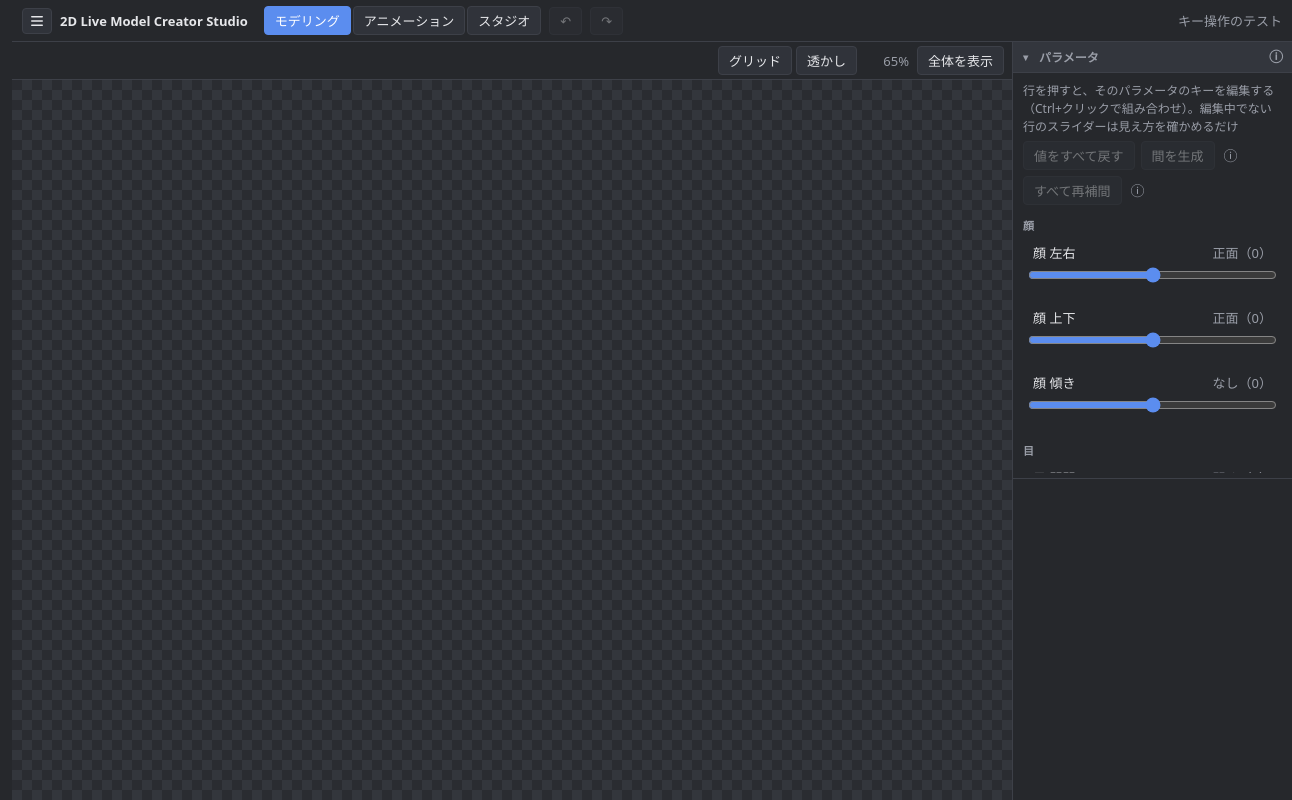
Test: 印を押して移動・編集 › 印を押すとその値へ移動し、その値のキー（中間キーも）を直接直せる
Click the button "顔 左右 正面（0）".
click(1152, 252)  # box [1028,240,1277,265]
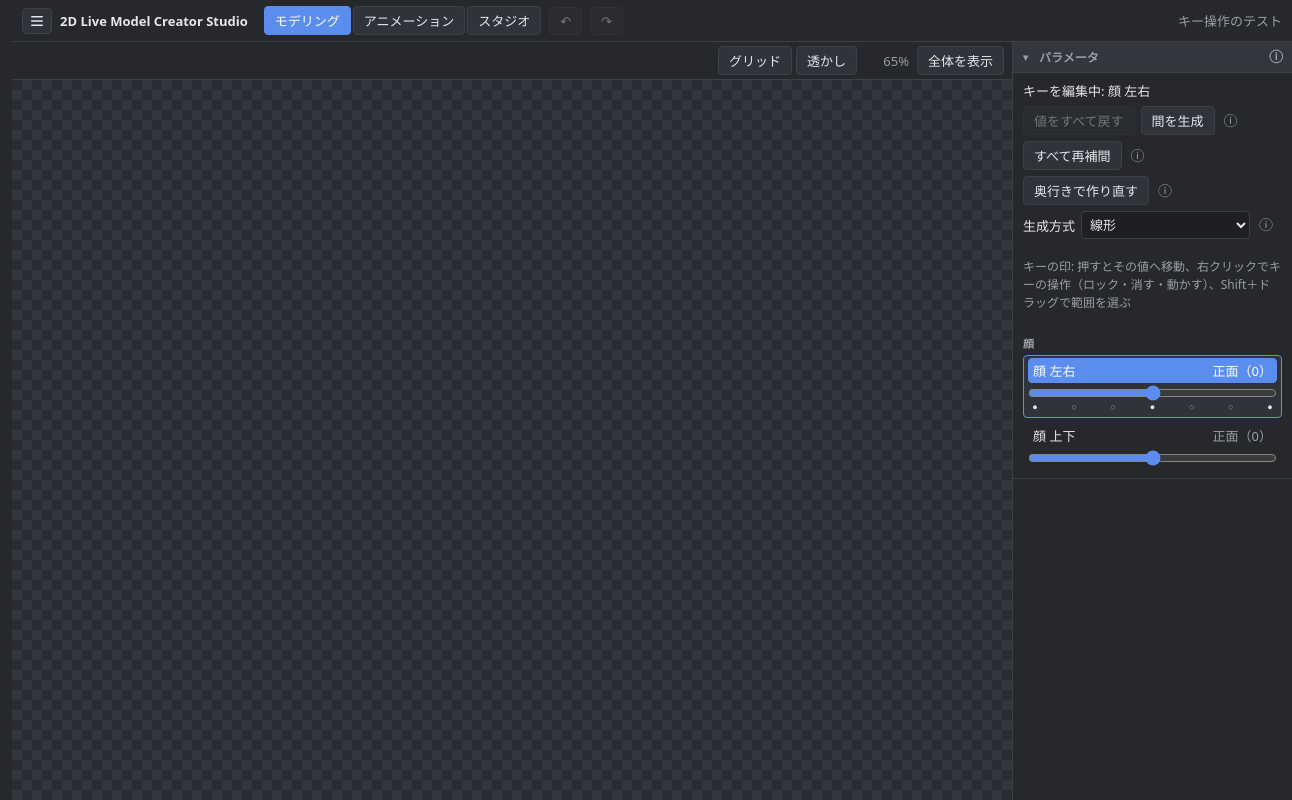
Click the 3rd button "○".
click(1192, 407)  # box [1187,401,1197,413]
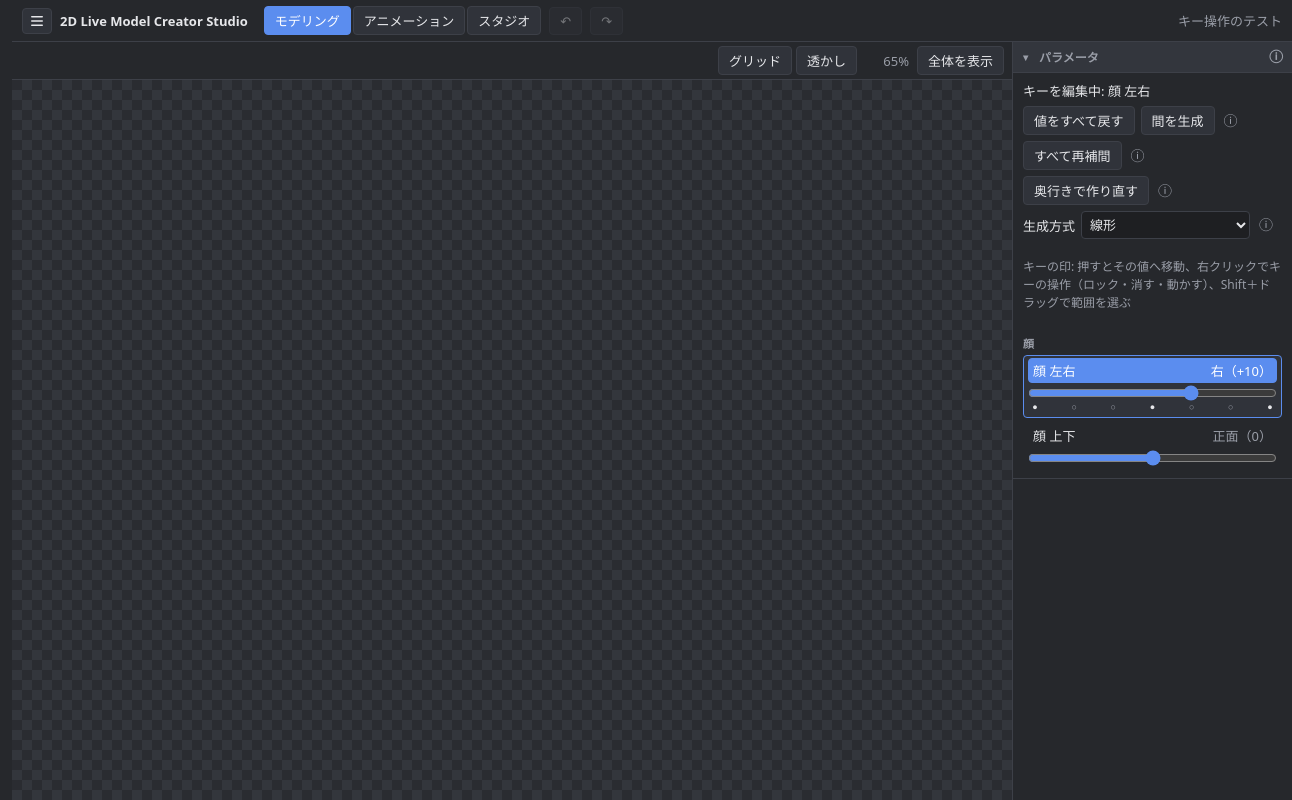
Expected: the slider named "顔 左右" holds "10", [1028,385,1277,401]
